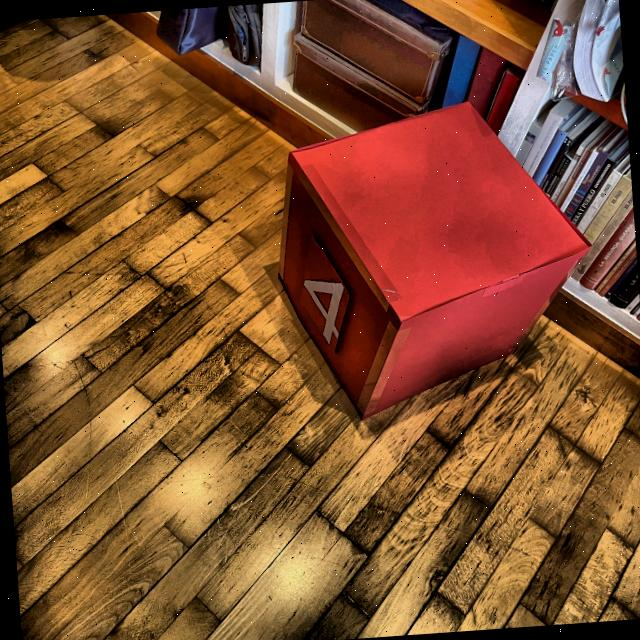four: (297, 272, 353, 347)
red box: (263, 91, 598, 428)
